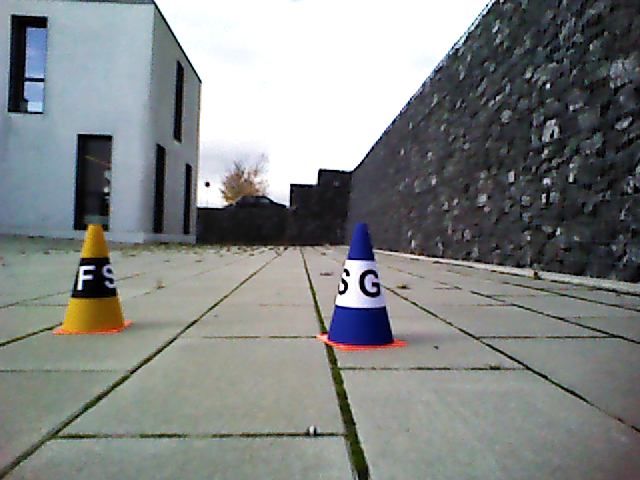bluecone: (328, 223, 396, 345)
yellowcone: (62, 223, 127, 332)
